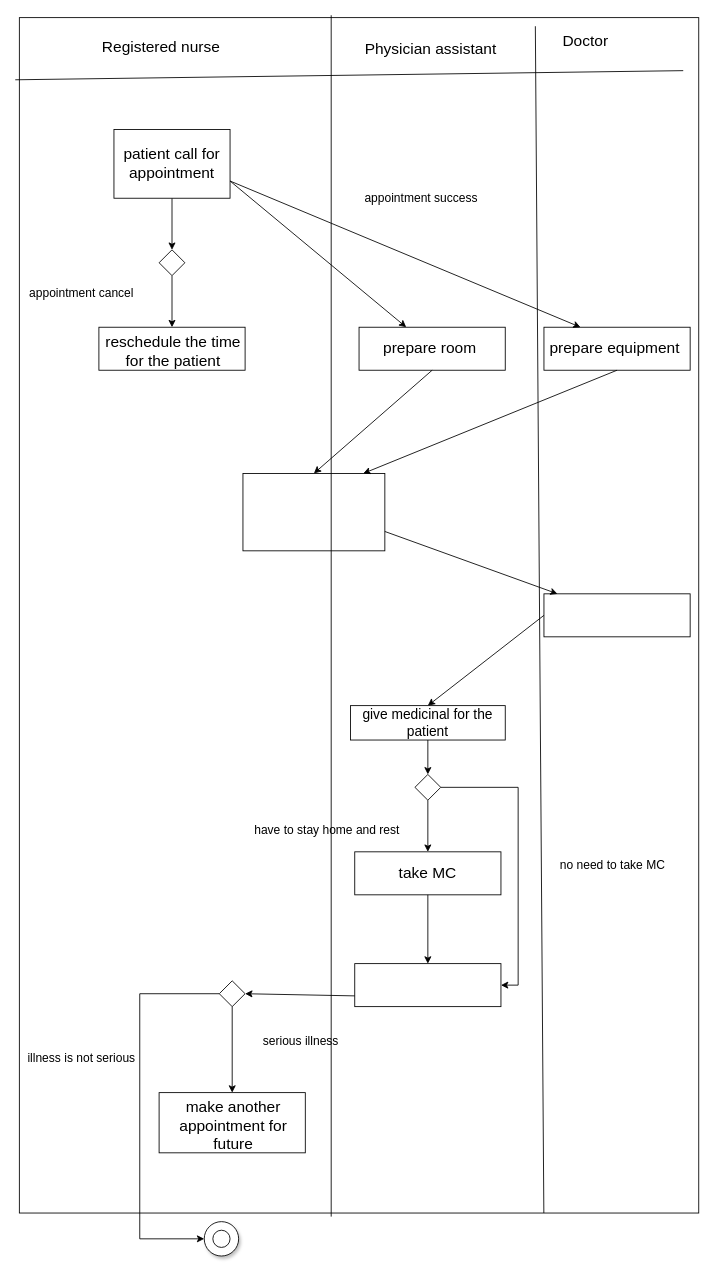
Some shapes in this 722 by 1277 pixel diagram are drawn without their labels. The centre of each missing label's shape, as x and y in pixels:
make payment: the point at 427,985
State the patient's condition: the point at 616,615
The doctor diagnoses the patient: the point at 313,512
